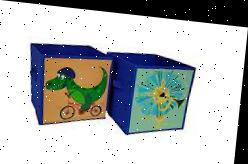cube: (24, 37, 115, 129), (107, 45, 197, 137)
